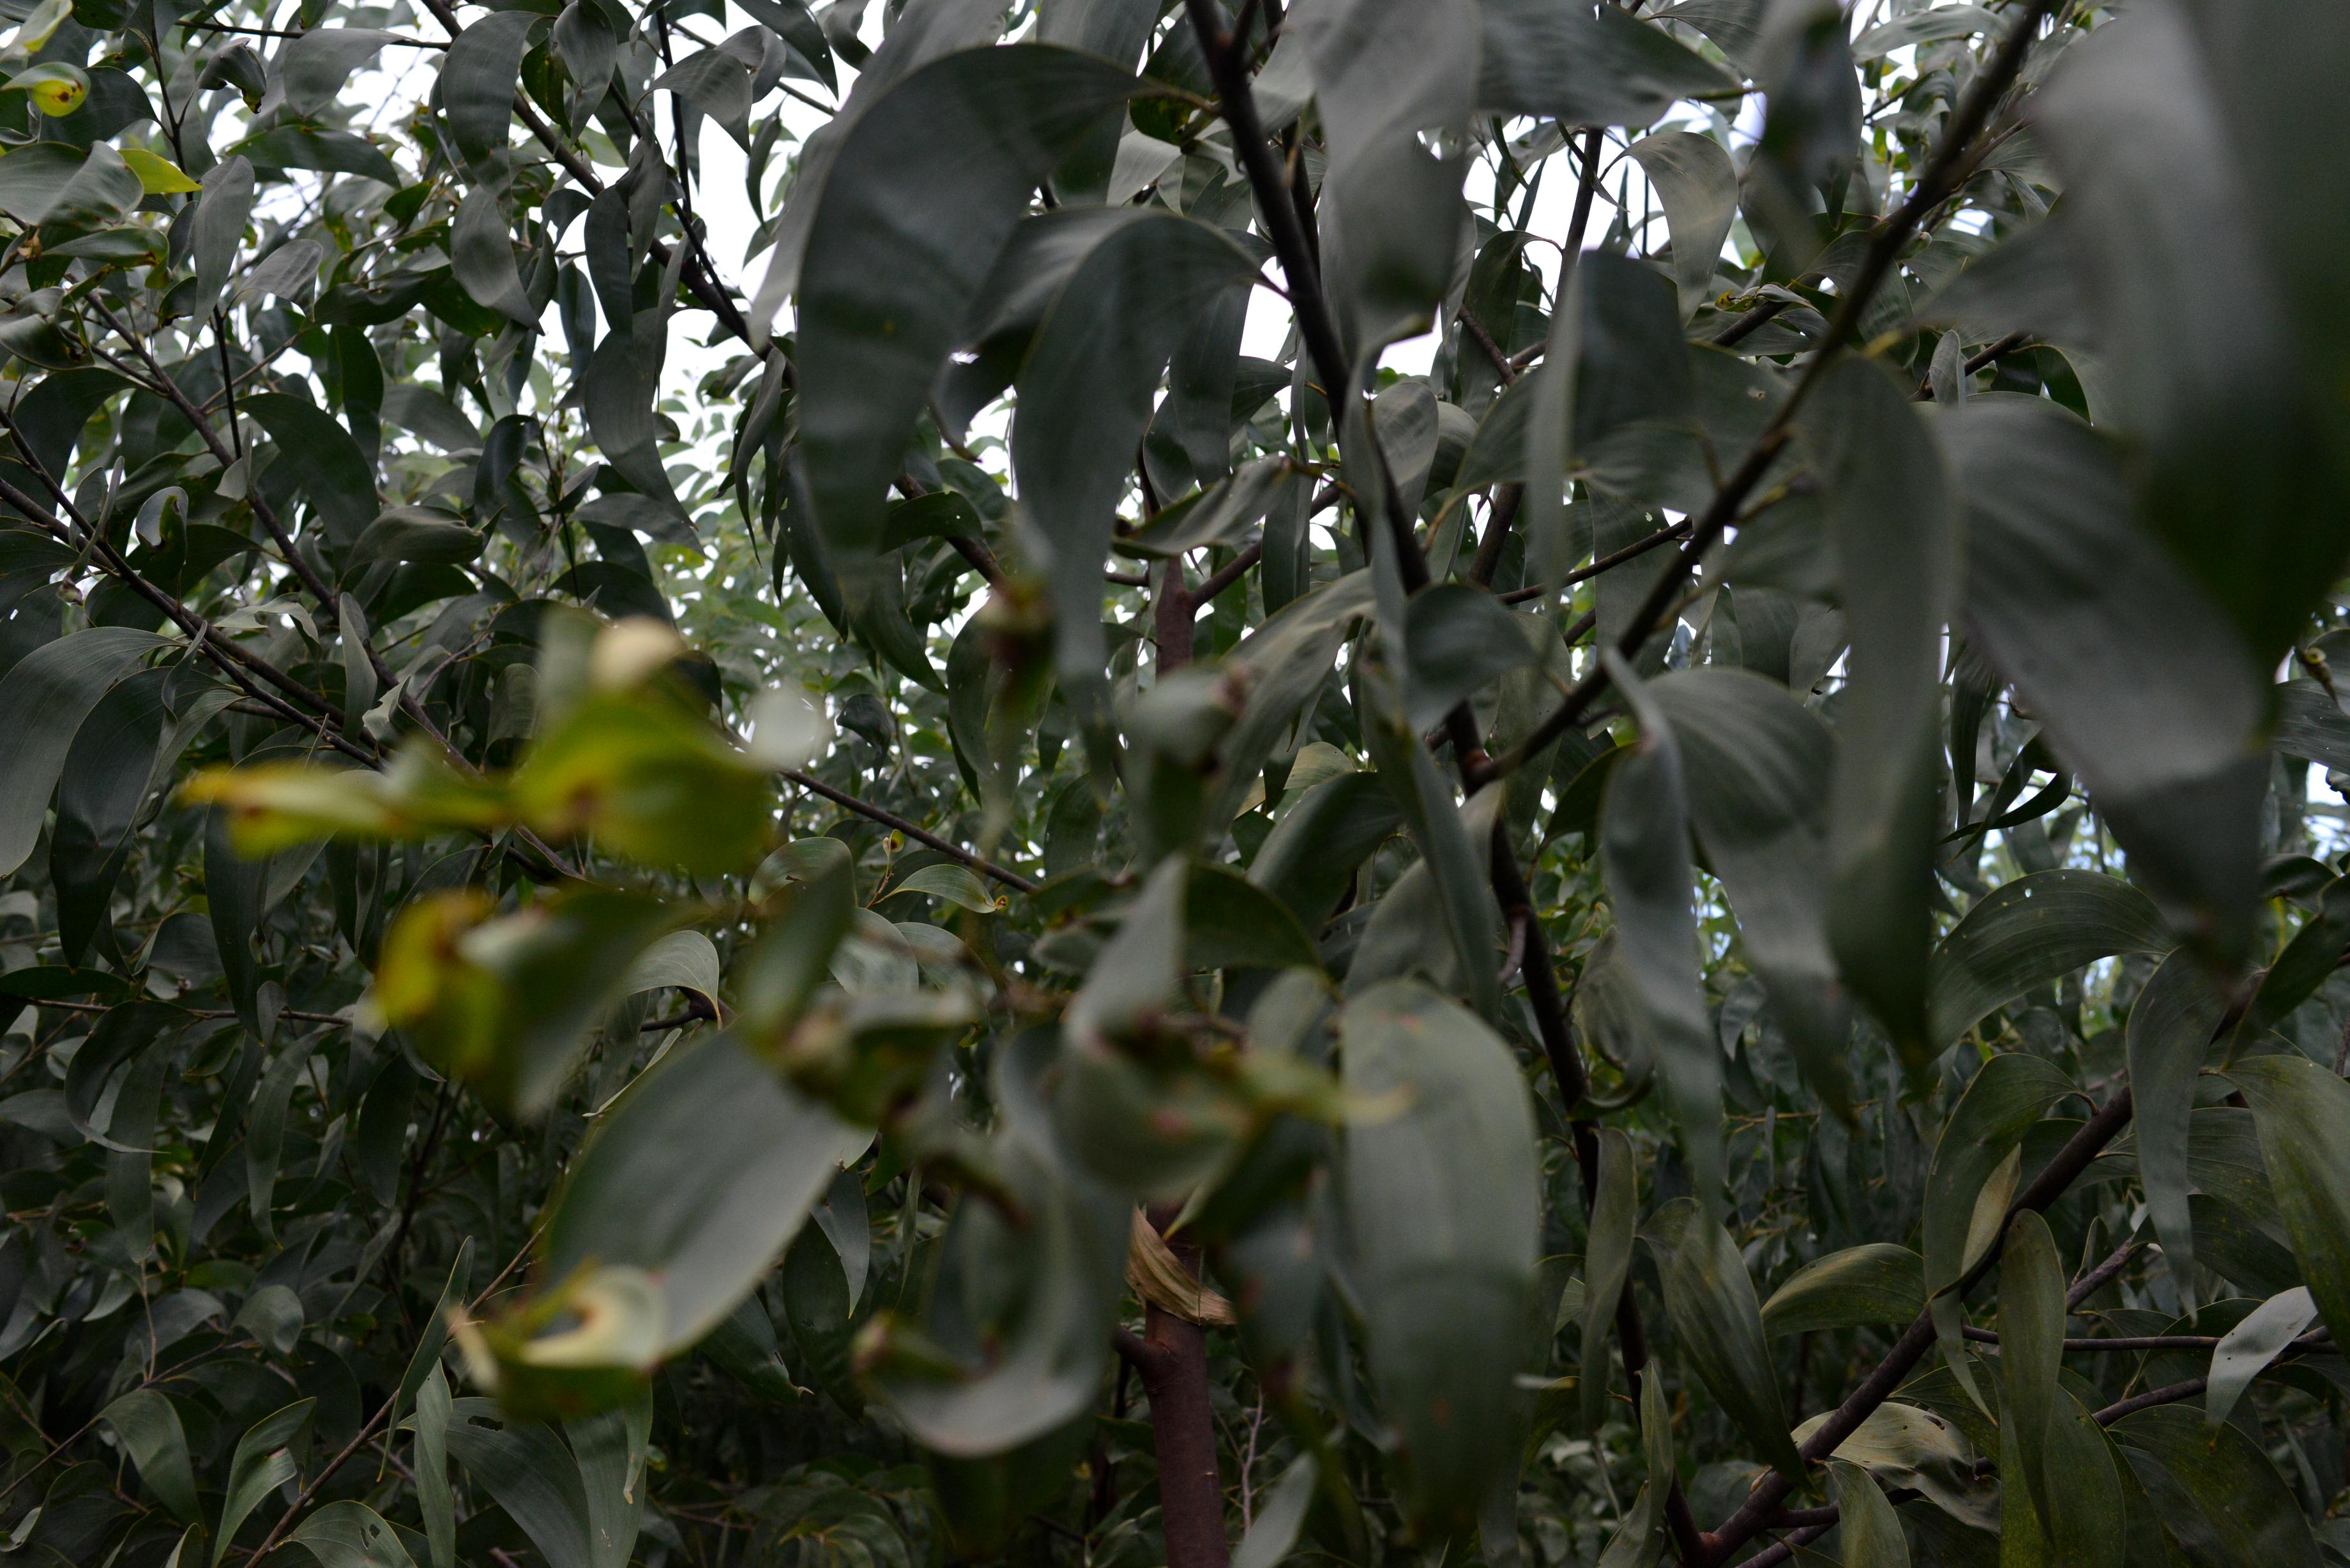Pasalora: (763, 38, 1153, 633), (847, 968, 1097, 1482), (1818, 364, 1981, 1097), (1323, 996, 1552, 1491), (437, 1160, 791, 1437), (1610, 688, 1764, 1302), (1521, 233, 1711, 696), (537, 572, 803, 885), (345, 912, 709, 1134), (1106, 863, 1297, 1274), (1146, 556, 1414, 817), (185, 712, 497, 852), (1143, 339, 1291, 514), (471, 409, 551, 558), (378, 119, 462, 247), (101, 126, 208, 220), (185, 591, 320, 656), (129, 233, 198, 297)
